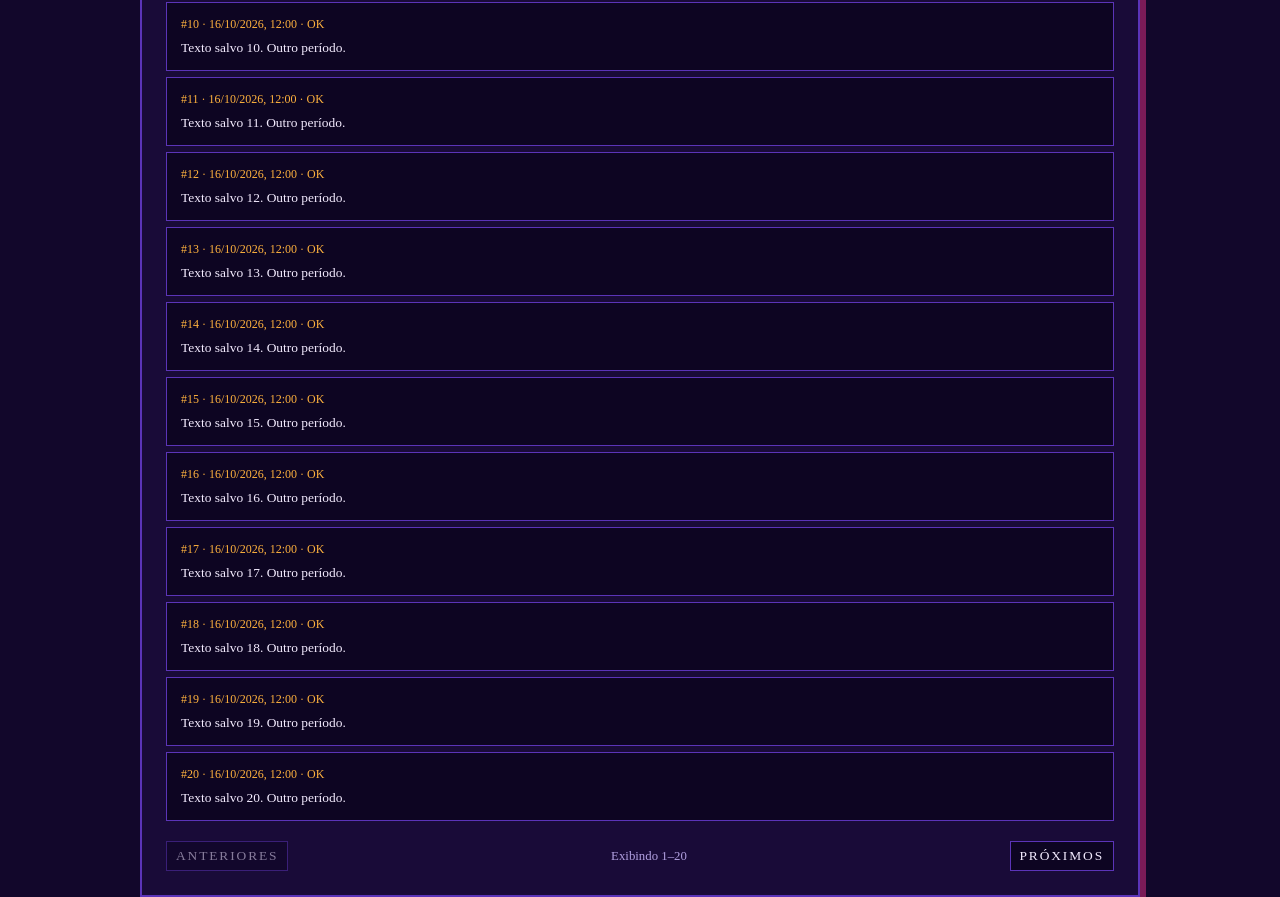
Scenario: pages through all paragraphs and opens full details below the list
(page scrolled)
Click the button "Próximos". click: (1062, 856)
box: [1010,841,1114,871]
(page scrolled)
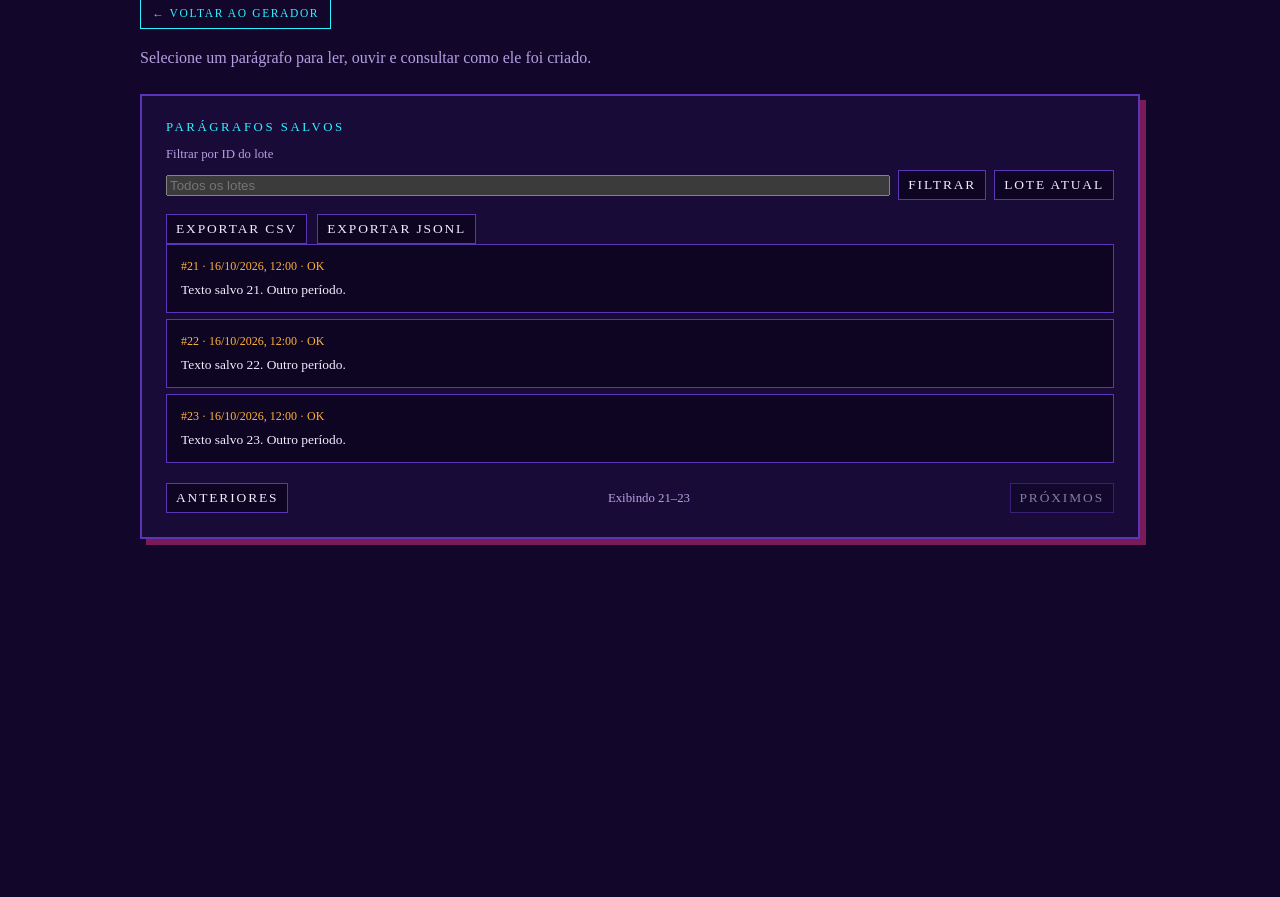
Expected: the text "Exibindo 21–23" is shown, [608,491,690,506]
Expected: the button "Próximos" is disabled, [1010,483,1114,513]
Click the button "#21 · 16/10/2026, 12:00 · OK Texto salvo 21. Outro período.". click: (253, 266)
box: [166,244,1114,313]
(page scrolled)
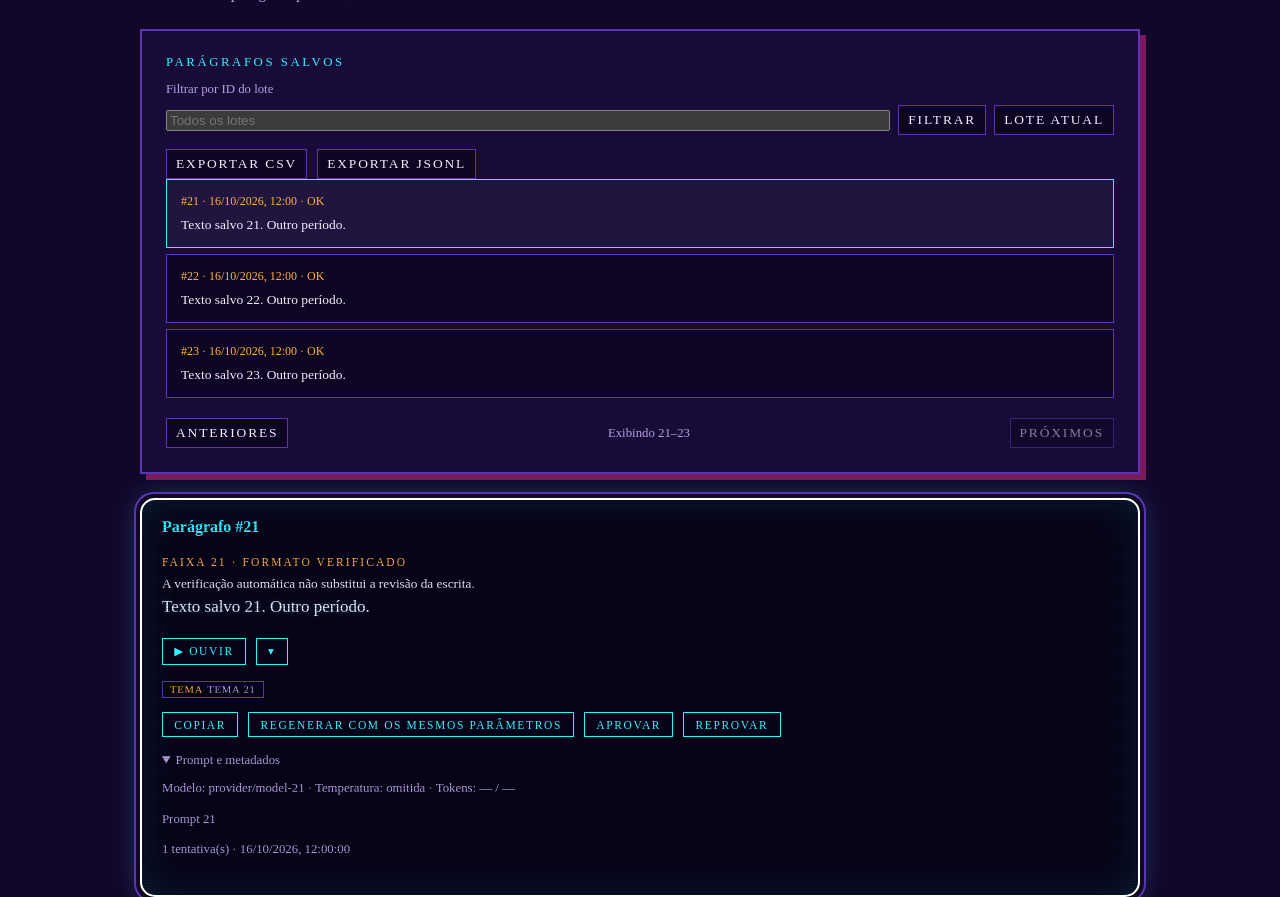
Expected: the element named "Detalhes do parágrafo" shows "provider/model-21", [209,781,305,795]
Expected: the list named "Parâmetros usados" shows "tema 21", [207,684,256,695]
Expected: the button "▶ Ouvir" is shown, [162,638,246,665]
Click the button "Anteriores". click: (227, 433)
box: [166,418,288,448]
(page scrolled)
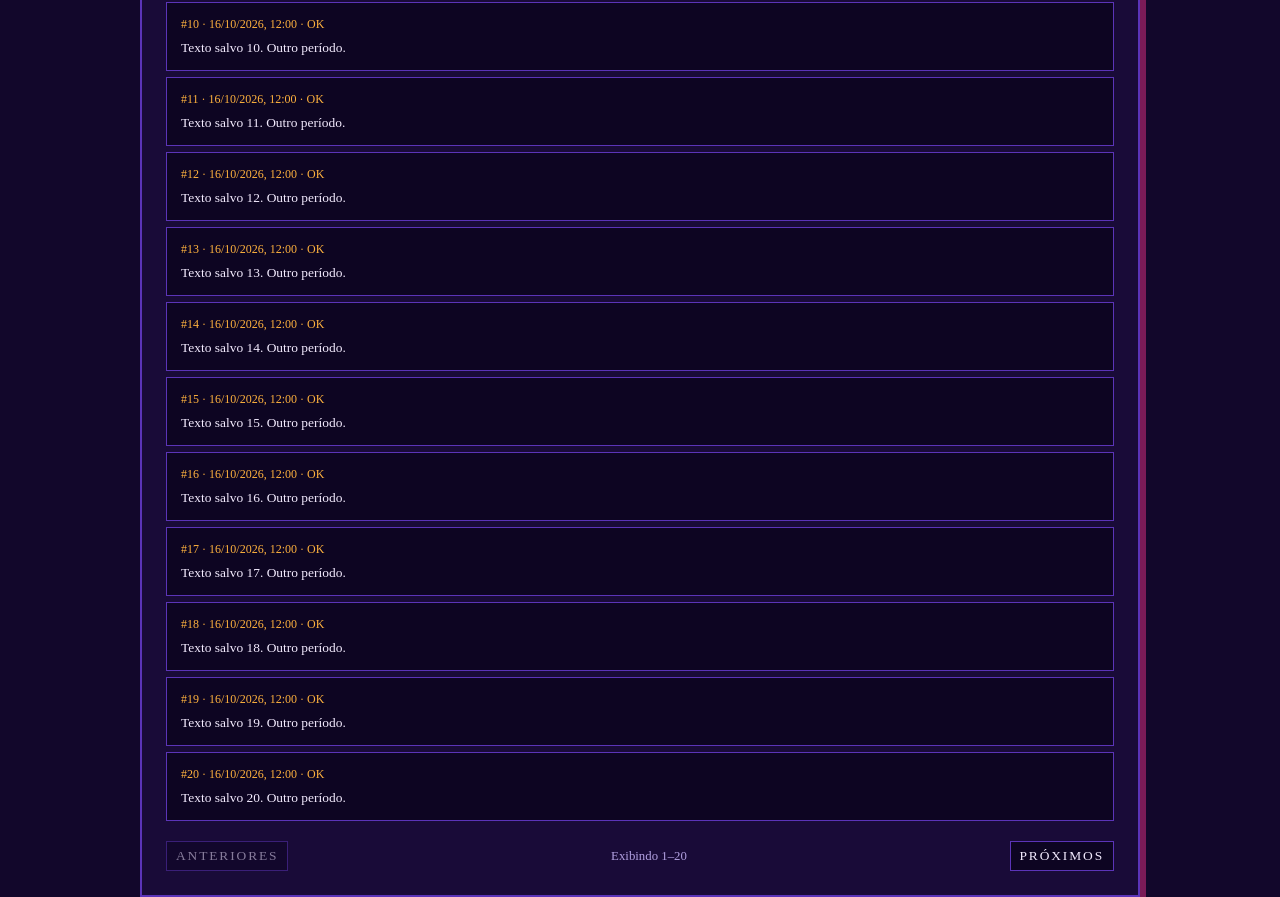
Expected: the text "Exibindo 1–20" is shown, [611,849,687,864]
